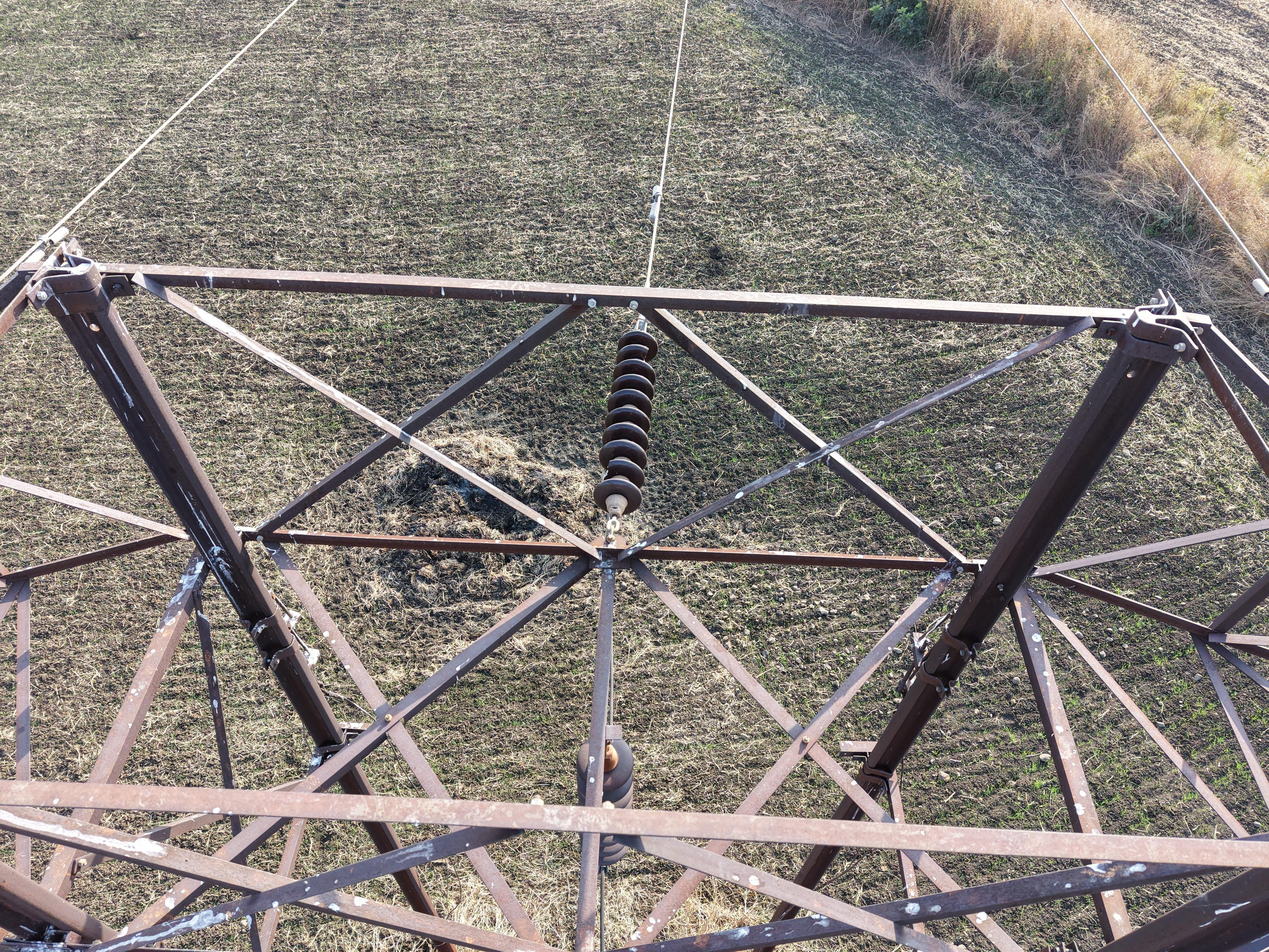broken_insulator: (600, 456, 649, 482), (613, 342, 657, 359)
